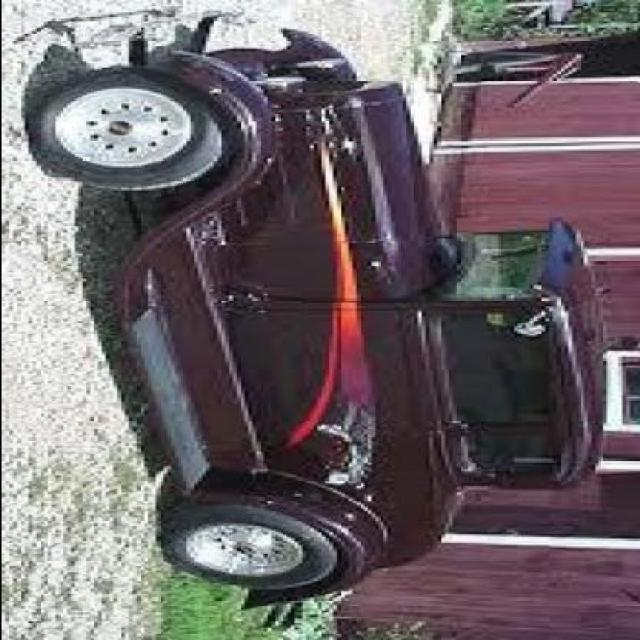damage: (304, 397, 388, 493)
